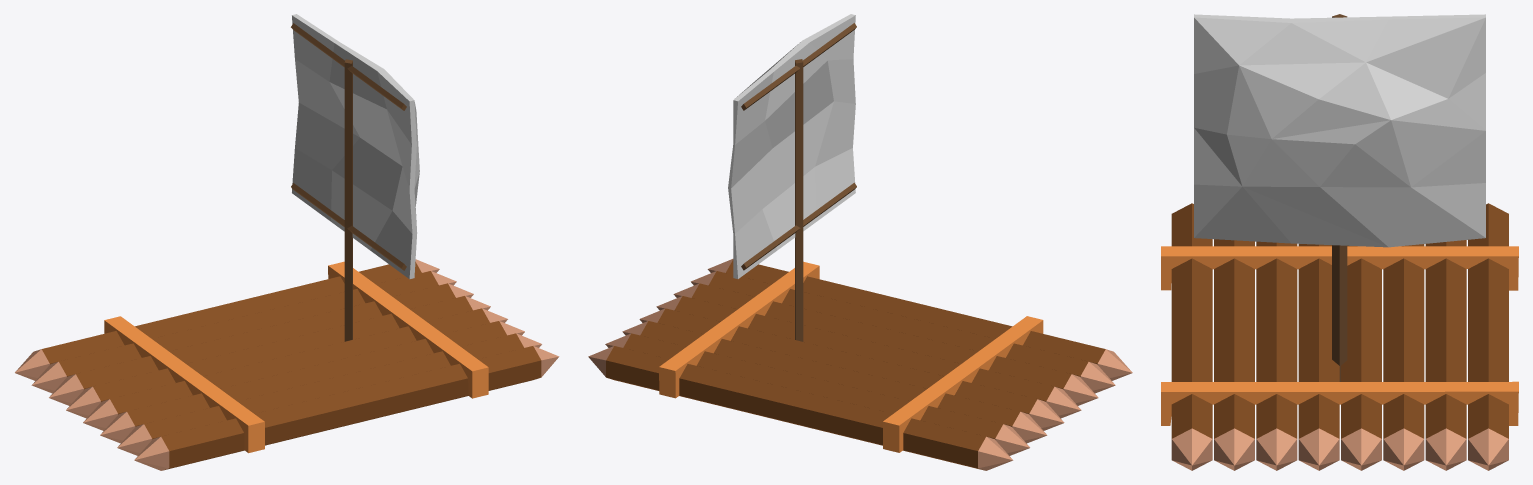
File: raft.glb
The picture shows the model from 3 angles, left to right: view 1: azimuth 30°, elevation 25°; view 2: azimuth 150°, elevation 25°; view 3: azimuth 270°, elevation 25°; orthographic projection. The views are drawn at different scales.
Visible parts, largest first — view 1: pCylinder36; view 2: pCylinder36; view 3: pCylinder36.
Boxes of the visible parts, x1,y1,x2,y2 form: pCylinder36: [15, 14, 559, 470]; pCylinder36: [588, 14, 1132, 470]; pCylinder36: [1161, 14, 1518, 470].
Size of the model in its own units: 259 by 179 by 152.
